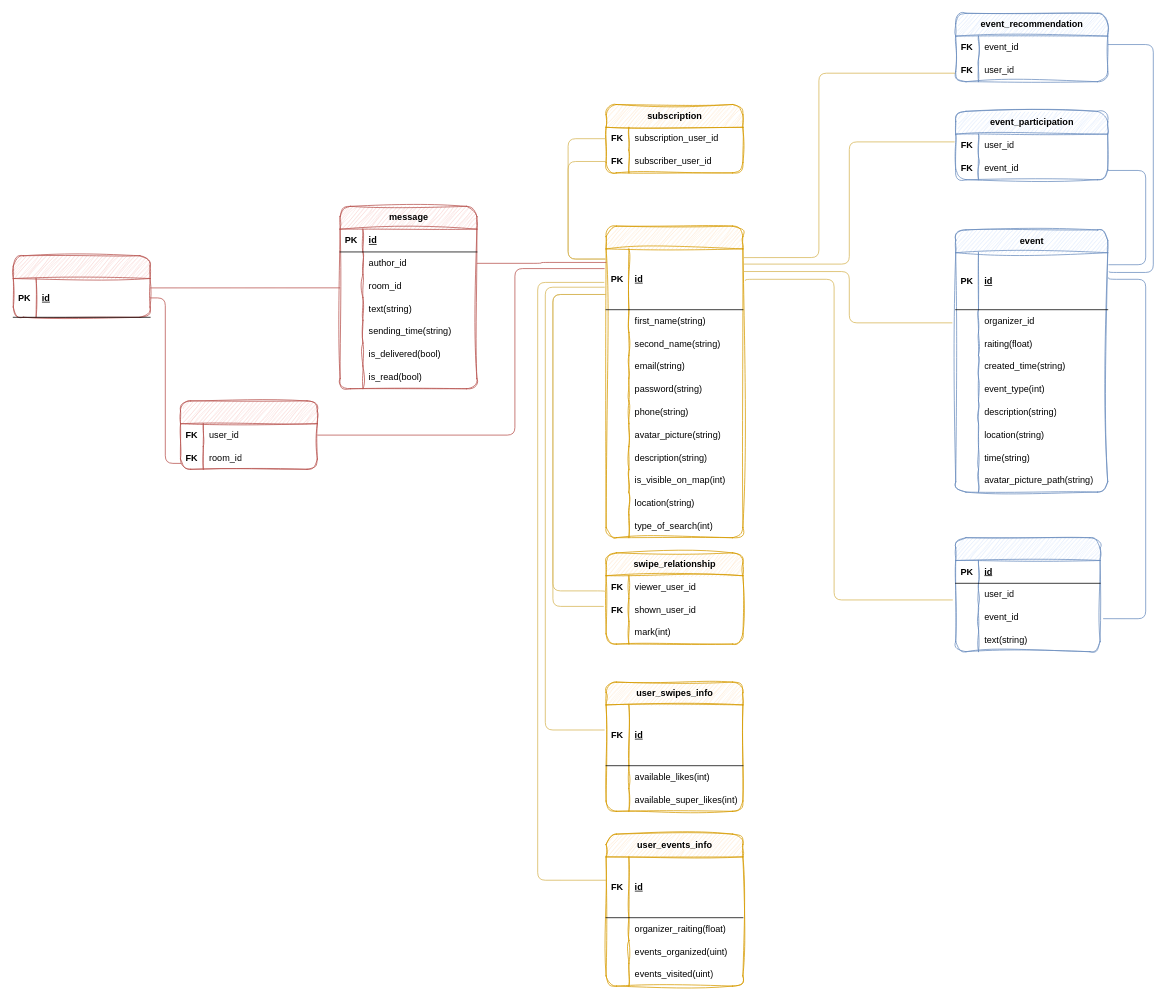
Some shapes in this 1167 by 999 pixel diagram are drawn without their labels. The shapes that lost their labels are listed below. From the top down, each one's box as (x1, y1, x2, y2) in pixels, then its label:
(13, 255, 150, 317): room
(605, 225, 743, 538): user
(180, 400, 317, 469): room_participation
(955, 537, 1100, 652): event_comment
